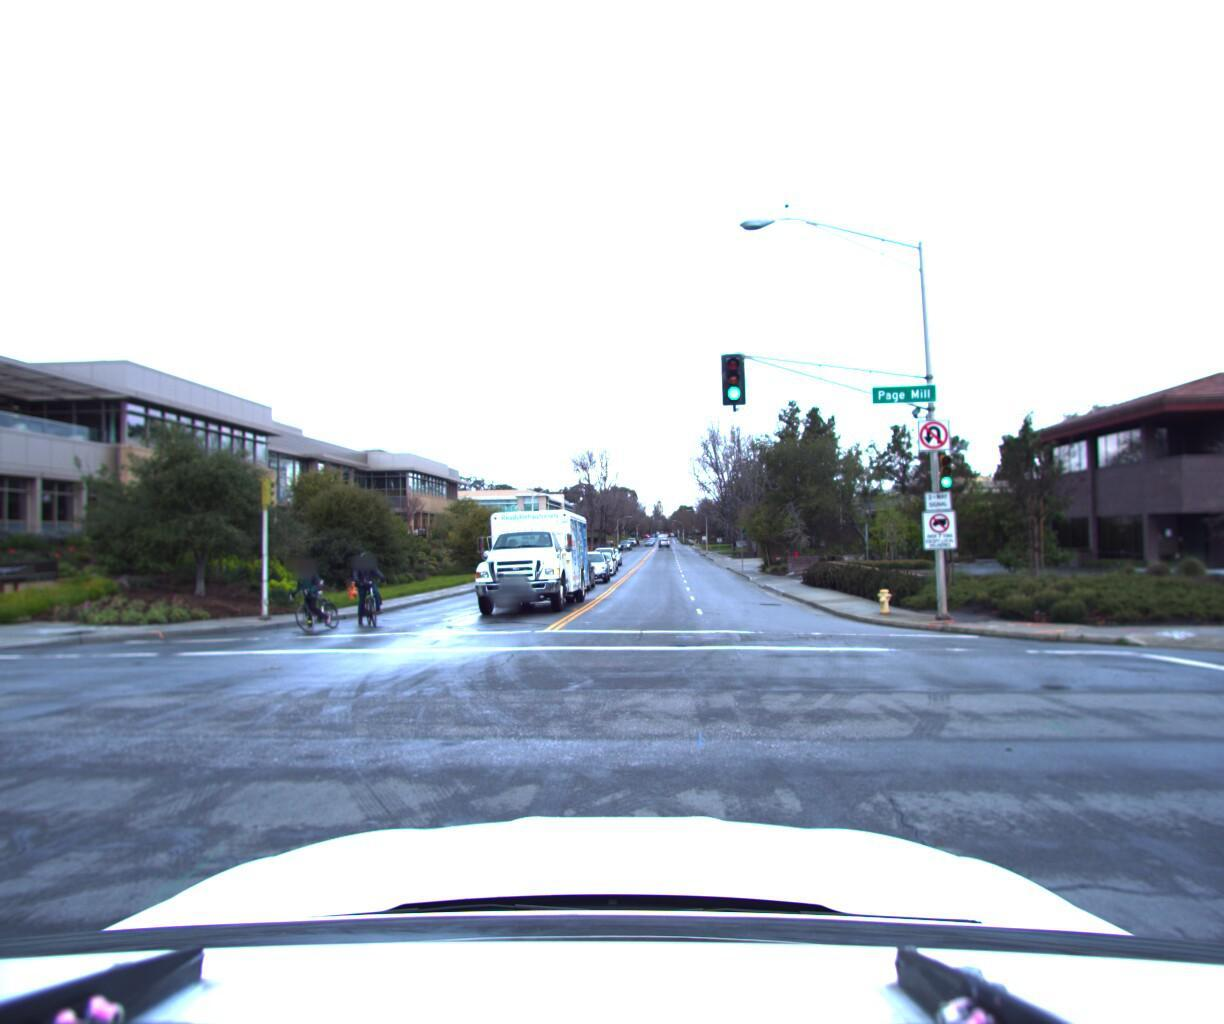bicycle: (276, 554, 352, 638), (340, 551, 385, 633)
car: (548, 553, 599, 592), (571, 547, 615, 585), (589, 544, 624, 573), (584, 549, 620, 577)
truck: (455, 499, 598, 622)
